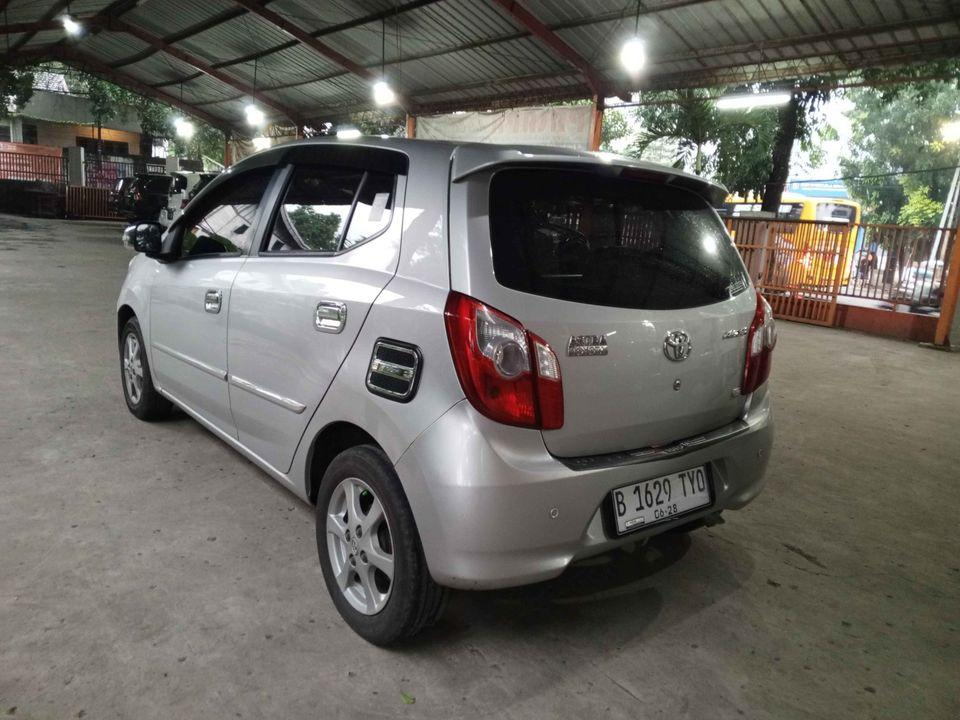plat nomor: (607, 461, 713, 543)
